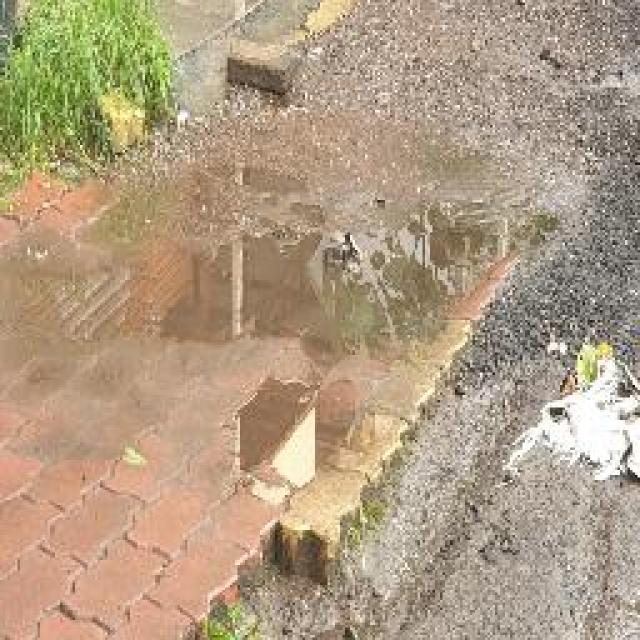puddle: (1, 169, 568, 373), (227, 378, 363, 505)
